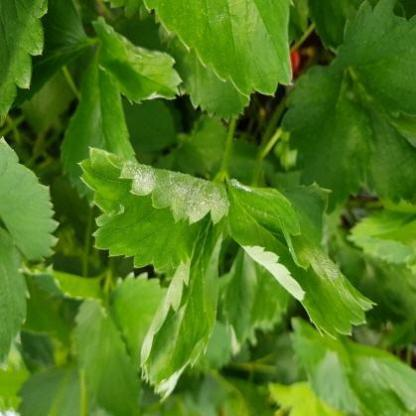Strawberry_Powdery_Mildew_Leaf: (226, 179, 378, 339), (78, 145, 230, 268), (138, 210, 228, 402), (92, 15, 184, 106)
